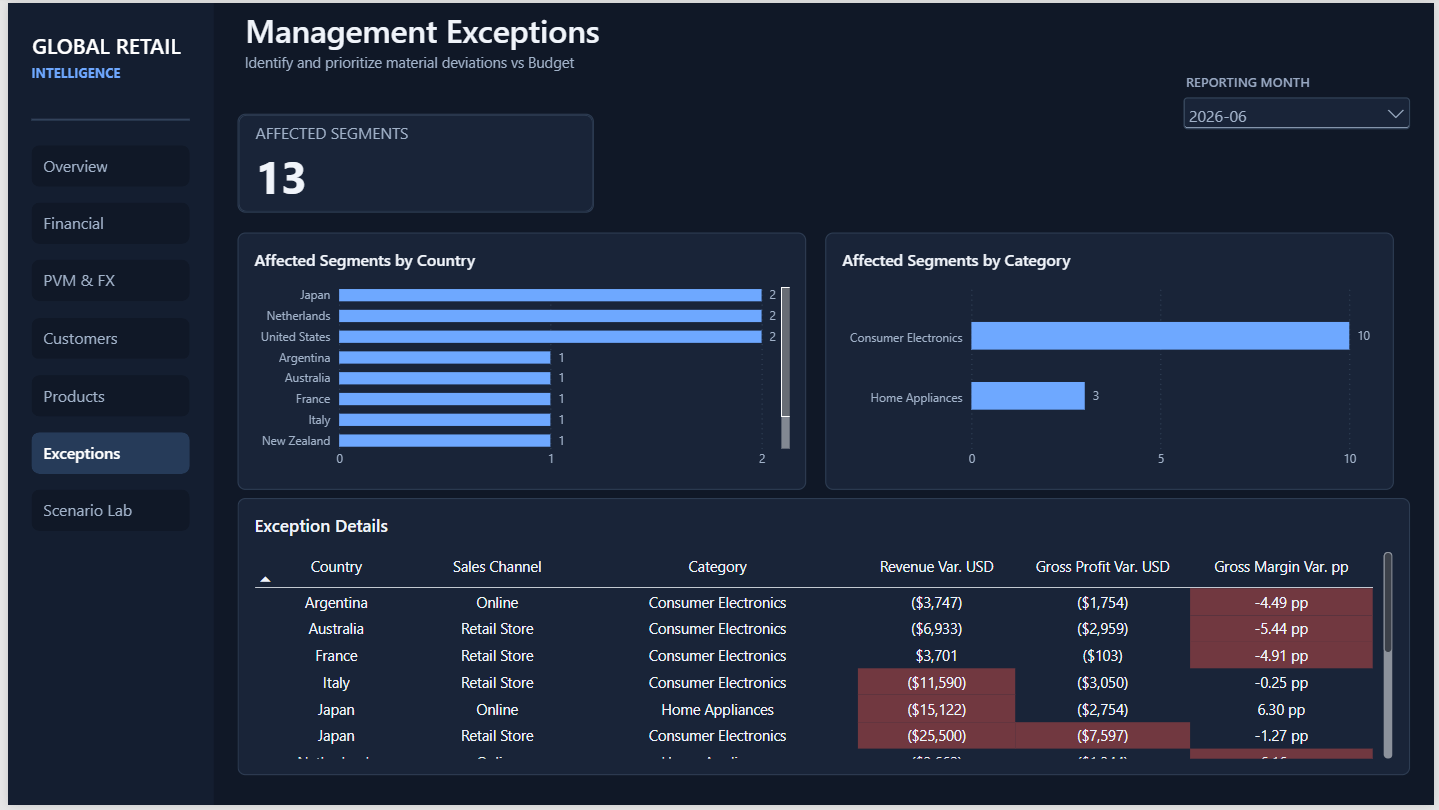

The page's visual inventory and layout, read from the dashboard file:
{"tool":"powerbi","page":{"name":"Exceptions","canvas":[1440,810],"ordinal":5},"visuals":[{"type":"shape","title":"Sidebar Background","box":[0,0,208,810],"z":0},{"type":"textbox","title":"Sidebar Brand Title","box":[24.1,28,168,30],"z":1000},{"type":"textbox","title":"Sidebar Brand Subtitle","box":[24,60,168,22],"z":2000},{"type":"shape","title":"Line","box":[24,112,160,12],"z":3000},{"type":"pageNavigator","box":[24,144,160,392],"z":4000},{"type":"textbox","title":"Header Page Title","box":[240,5.6,648.9,53.3],"z":5000},{"type":"textbox","title":"Header Subtitle","box":[238.9,50,650,27.8],"z":6000},{"type":"slicer","fields":{"Values":["DimDate.YearMonth"]},"box":[1181.6,71.3,239.1,72.4],"z":7000},{"type":"cardVisual","fields":{"Data":["_Measures.Management Exception Affected Segments"]},"box":[232.2,111.5,360,100],"z":8000},{"type":"clusteredBarChart","title":"Affected Segments by Country","fields":{"Category":["DimCountry.country_name"],"Y":["_Measures.Management Exception Affected Segments"]},"box":[232.2,232.2,574.7,259.8],"z":9000},{"type":"clusteredBarChart","title":"Affected Segments by Category","fields":{"Category":["DimCategory.category_name"],"Y":["_Measures.Management Exception Affected Segments"]},"box":[825.3,232.2,574.7,259.8],"z":10000},{"type":"tableEx","title":"Exception Details","fields":{"Values":["DimCountry.country_name","DimSalesChannel.sales_channel_name","DimCategory.category_name","_Measures.Revenue vs Budget Variance USD","_Measures.Gross Profit vs Budget Variance USD","_Measures.Gross Margin vs Budget Variance pp"]},"box":[232,500,1184,280],"z":11000}]}

Visuals, with their boxes in screenshot pixels (x1, y1, x2, y2), scaled from the page's 1440x810 canvas onto the 1439x810 screenshot:
"Sidebar Background" shape: BBox(0, 0, 208, 809)
"Sidebar Brand Title" textbox: BBox(24, 28, 192, 58)
"Sidebar Brand Subtitle" textbox: BBox(24, 60, 192, 82)
"Line" shape: BBox(24, 112, 184, 124)
pageNavigator: BBox(24, 144, 184, 536)
"Header Page Title" textbox: BBox(240, 6, 888, 59)
"Header Subtitle" textbox: BBox(239, 50, 888, 78)
slicer - DimDate.YearMonth: BBox(1181, 71, 1420, 144)
cardVisual - _Measures.Management Exception Affected Segments: BBox(232, 112, 592, 212)
"Affected Segments by Country" clusteredBarChart: BBox(232, 232, 806, 492)
"Affected Segments by Category" clusteredBarChart: BBox(825, 232, 1399, 492)
"Exception Details" tableEx: BBox(232, 500, 1415, 780)
